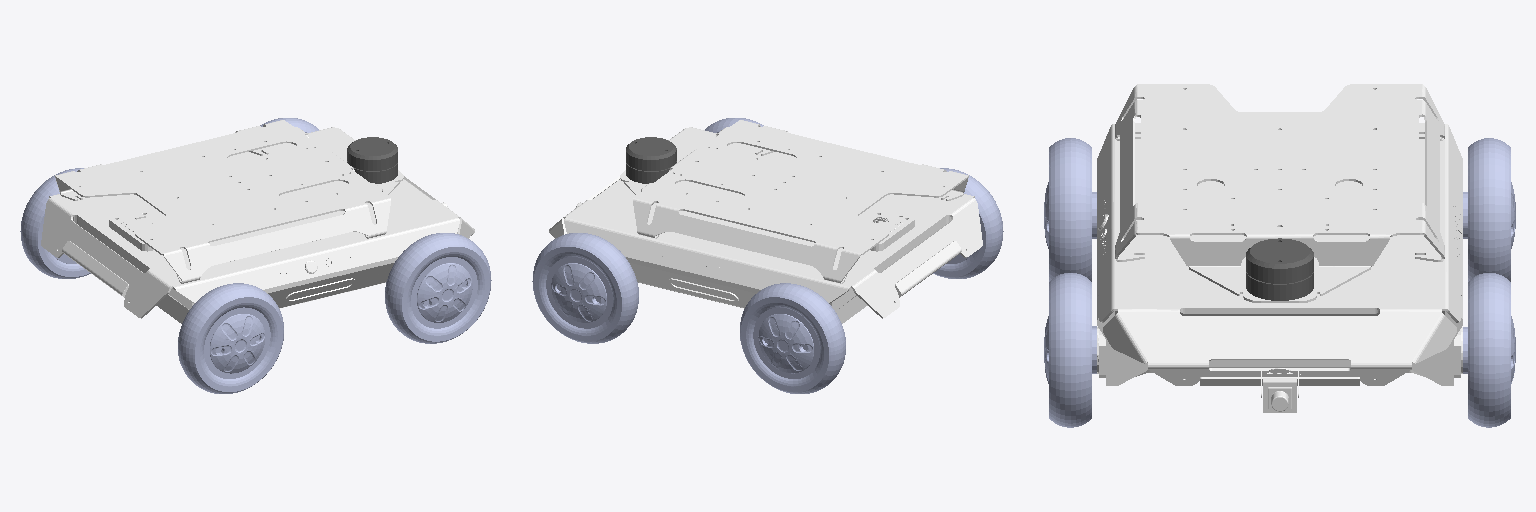
robot.urdf — pacs_01:
<?xml version="1.0" encoding="utf-8"?>
<!-- This URDF was automatically created by SolidWorks to URDF Exporter! Originally created by [author] ([email redacted]) 
     Commit Version: 1.6.0-4-g7f85cfe  Build Version: 1.6.7995.38578
     For more information, please see http://wiki.ros.org/sw_urdf_exporter -->
<robot
  name="pacs_01">
  <link
    name="base_link">
    <inertial>
      <origin
        xyz="-0.00219458420835894 3.83870629275841E-05 0.0392068851552257"
        rpy="0 0 0" />
      <mass
        value="13.1522312064695" />
      <inertia
        ixx="0.156504556419624"
        ixy="0.000140265980697997"
        ixz="0.00148292872926079"
        iyy="0.22162736741891"
        iyz="8.44253920075098E-07"
        izz="0.362774724538872" />
    </inertial>
    <visual>
      <origin
        xyz="0 0 0"
        rpy="0 0 0" />
      <geometry>
        <mesh
          filename="package://pacs_01/meshes/base_link.STL" />
      </geometry>
      <material
        name="">
        <color
          rgba="1 1 1 1" />
      </material>
    </visual>
    <collision>
      <origin
        xyz="0 0 0"
        rpy="0 0 0" />
      <geometry>
        <mesh
          filename="package://pacs_01/meshes/base_link.STL" />
      </geometry>
    </collision>
  </link>
  <link
    name="lidar_link">
    <inertial>
      <origin
        xyz="0.000406008531776969 -0.000196273182234447 0.0203548513950752"
        rpy="0 0 0" />
      <mass
        value="0.16215276302279" />
      <inertia
        ixx="7.3495002838014E-05"
        ixy="-5.04772920517011E-09"
        ixz="1.13177664543073E-07"
        iyy="7.37281114703312E-05"
        iyz="-2.80377260649943E-07"
        izz="0.000102007031705963" />
    </inertial>
    <visual>
      <origin
        xyz="0 0 0"
        rpy="0 0 0" />
      <geometry>
        <mesh
          filename="package://pacs_01/meshes/lidar_link.STL" />
      </geometry>
      <material
        name="">
        <color
          rgba="0.43921568627451 0.43921568627451 0.43921568627451 1" />
      </material>
    </visual>
    <collision>
      <origin
        xyz="0 0 0"
        rpy="0 0 0" />
      <geometry>
        <mesh
          filename="package://pacs_01/meshes/lidar_link.STL" />
      </geometry>
    </collision>
  </link>
  <joint
    name="lidar_link_joint"
    type="fixed">
    <origin
      xyz="0.188330058988242 0 0.0844627274970641"
      rpy="-0.00981286000426863 -0.00991485775896995 -0.0170055305392493" />
    <parent
      link="base_link" />
    <child
      link="lidar_link" />
    <axis
      xyz="0 0 0" />
  </joint>
  <link
    name="left_front_wheel_link">
    <inertial>
      <origin
        xyz="2.9792334155232E-09 0.0182050746105527 -1.62390044466942E-09"
        rpy="0 0 0" />
      <mass
        value="0.824539492234795" />
      <inertia
        ixx="0.00139691618870293"
        ixy="-2.40709385661498E-11"
        ixz="7.94951978365798E-08"
        iyy="0.00254783549923954"
        iyz="2.64959677380526E-11"
        izz="0.00139558327985706" />
    </inertial>
    <visual>
      <origin
        xyz="0 0 0"
        rpy="0 0 0" />
      <geometry>
        <mesh
          filename="package://pacs_01/meshes/left_front_wheel_link.STL" />
      </geometry>
      <material
        name="">
        <color
          rgba="0.792156862745098 0.819607843137255 0.933333333333333 1" />
      </material>
    </visual>
    <collision>
      <origin
        xyz="0 0 0"
        rpy="0 0 0" />
      <geometry>
        <mesh
          filename="package://pacs_01/meshes/left_front_wheel_link.STL" />
      </geometry>
    </collision>
  </link>
  <joint
    name="left_front_wheel_link_joint"
    type="continuous">
    <origin
      xyz="0.16727499992998 0.201999999999998 0.00096482289579701"
      rpy="0 0 0" />
    <parent
      link="base_link" />
    <child
      link="left_front_wheel_link" />
    <axis
      xyz="0 1 0" />
  </joint>
  <link
    name="left_behind_wheel_link">
    <inertial>
      <origin
        xyz="-9.49747003264889E-10 0.0182050881806605 -2.51594751976558E-09"
        rpy="0 0 0" />
      <mass
        value="0.824533282072352" />
      <inertia
        ixx="0.00139690520741326"
        ixy="1.18779669056762E-11"
        ixz="-8.35891499671099E-08"
        iyy="0.00254786949454698"
        iyz="2.86085856349142E-11"
        izz="0.00139562797853652" />
    </inertial>
    <visual>
      <origin
        xyz="0 0 0"
        rpy="0 0 0" />
      <geometry>
        <mesh
          filename="package://pacs_01/meshes/left_behind_wheel_link.STL" />
      </geometry>
      <material
        name="">
        <color
          rgba="0.792156862745098 0.819607843137255 0.933333333333333 1" />
      </material>
    </visual>
    <collision>
      <origin
        xyz="0 0 0"
        rpy="0 0 0" />
      <geometry>
        <mesh
          filename="package://pacs_01/meshes/left_behind_wheel_link.STL" />
      </geometry>
    </collision>
  </link>
  <joint
    name="left_behind_wheel_link_joint"
    type="continuous">
    <origin
      xyz="-0.16727500000146 0.202 0.000964823442346829"
      rpy="0 0 0" />
    <parent
      link="base_link" />
    <child
      link="left_behind_wheel_link" />
    <axis
      xyz="0 1 0" />
  </joint>
  <link
    name="right_front_wheel_link">
    <inertial>
      <origin
        xyz="9.35565837023589E-08 -0.0182050963105626 1.95063762503667E-08"
        rpy="0 0 0" />
      <mass
        value="0.824532348335186" />
      <inertia
        ixx="0.00139687678935505"
        ixy="-4.2008163305329E-13"
        ixz="3.09713359425899E-07"
        iyy="0.00254788486215687"
        iyz="2.2229732433845E-11"
        izz="0.00139567211248768" />
    </inertial>
    <visual>
      <origin
        xyz="0 0 0"
        rpy="0 0 0" />
      <geometry>
        <mesh
          filename="package://pacs_01/meshes/right_front_wheel_link.STL" />
      </geometry>
      <material
        name="">
        <color
          rgba="0.792156862745098 0.819607843137255 0.933333333333333 1" />
      </material>
    </visual>
    <collision>
      <origin
        xyz="0 0 0"
        rpy="0 0 0" />
      <geometry>
        <mesh
          filename="package://pacs_01/meshes/right_front_wheel_link.STL" />
      </geometry>
    </collision>
  </link>
  <joint
    name="right_front_wheel_link_joint"
    type="continuous">
    <origin
      xyz="0.167274999739344 -0.201999999999997 0.000964823984624538"
      rpy="0 0 0" />
    <parent
      link="base_link" />
    <child
      link="right_front_wheel_link" />
    <axis
      xyz="0 -1 0" />
  </joint>
  <link
    name="right_behind_wheel_link">
    <inertial>
      <origin
        xyz="-8.01308603798345E-06 -0.0182050839103516 -2.14114836171037E-05"
        rpy="0 0 0" />
      <mass
        value="0.824534297834338" />
      <inertia
        ixx="0.00139691263999912"
        ixy="4.70615268556942E-11"
        ixz="8.41944236930472E-08"
        iyy="0.00254787577648229"
        iyz="-1.20102020385889E-10"
        izz="0.00139562721368499" />
    </inertial>
    <visual>
      <origin
        xyz="0 0 0"
        rpy="0 0 0" />
      <geometry>
        <mesh
          filename="package://pacs_01/meshes/right_behind_wheel_link.STL" />
      </geometry>
      <material
        name="">
        <color
          rgba="0.792156862745098 0.819607843137255 0.933333333333333 1" />
      </material>
    </visual>
    <collision>
      <origin
        xyz="0 0 0"
        rpy="0 0 0" />
      <geometry>
        <mesh
          filename="package://pacs_01/meshes/right_behind_wheel_link.STL" />
      </geometry>
    </collision>
  </link>
  <joint
    name="right_behind_wheel_link_joint"
    type="continuous">
    <origin
      xyz="-0.167266982821384 -0.201999999999996 0.000986224173708944"
      rpy="0 0 0" />
    <parent
      link="base_link" />
    <child
      link="right_behind_wheel_link" />
    <axis
      xyz="0 -1 0" />
  </joint>
</robot>

--- Facts derived from the render (not from the file) ---
The picture shows the robot from 3 angles, left to right: view 1: azimuth 30°, elevation 25°; view 2: azimuth 150°, elevation 25°; view 3: azimuth 270°, elevation 25°; orthographic projection.
Model pacs_01 with 6 links and 5 joints (4 continuous, 1 fixed), rooted at base_link, posed every joint at zero.
Links seen in each view (by area): view 1: base_link, right_front_wheel_link, right_behind_wheel_link, left_behind_wheel_link, lidar_link; view 2: base_link, left_front_wheel_link, left_behind_wheel_link, right_behind_wheel_link, lidar_link; view 3: base_link, right_front_wheel_link, left_front_wheel_link, right_behind_wheel_link, left_behind_wheel_link, lidar_link.
Link boxes in pixels (x1,y1,x2,y2): base_link: (41,120,474,323); right_front_wheel_link: (385,233,491,343); right_behind_wheel_link: (178,283,283,393); left_behind_wheel_link: (20,168,90,278); lidar_link: (347,137,397,183); base_link: (549,120,982,323); left_front_wheel_link: (532,233,638,343); left_behind_wheel_link: (740,283,845,393); right_behind_wheel_link: (933,168,1003,278); lidar_link: (626,137,676,183); base_link: (1097,84,1462,412); right_front_wheel_link: (1044,273,1096,427); left_front_wheel_link: (1463,273,1515,427); right_behind_wheel_link: (1044,138,1096,281); left_behind_wheel_link: (1463,138,1515,281); lidar_link: (1246,238,1313,300).
Bounding box of the posed robot: 0.5736 × 0.4946 × 0.2062 m (x, y, z).
6 mesh visuals loaded from 6 distinct referenced files (6 binary STL).